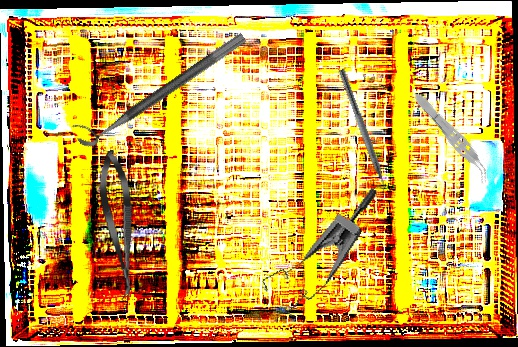Chopper: (329, 68, 393, 200)
Fixation Ring: (69, 18, 248, 152)
Micro Scissor: (94, 148, 144, 302)
Speculum: (254, 163, 379, 329)
Tissue Forceps: (408, 88, 497, 186)
